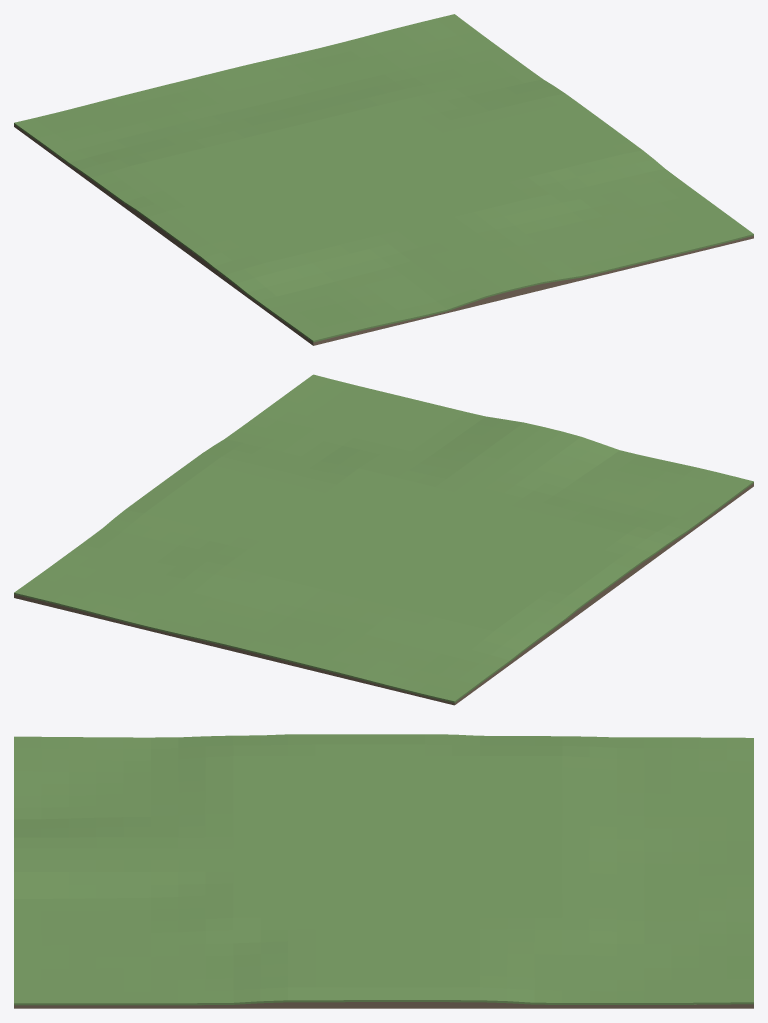
The model's file is yard_ground.glb.
The picture shows the model from 3 angles, top to bottom: view 1: azimuth 30°, elevation 25°; view 2: azimuth 150°, elevation 25°; view 3: azimuth 270°, elevation 25°; orthographic projection. The views are drawn at different scales.
Parts seen in each view (by area): view 1: yard_ground.lawn, yard_ground.soil; view 2: yard_ground.lawn, yard_ground.soil; view 3: yard_ground.lawn, yard_ground.soil.
Boxes of the visible parts, x1=… form: yard_ground.lawn: x1=14, y1=14, x2=753, y2=342; yard_ground.soil: x1=14, y1=124, x2=753, y2=345; yard_ground.lawn: x1=14, y1=374, x2=753, y2=702; yard_ground.soil: x1=14, y1=483, x2=753, y2=705; yard_ground.lawn: x1=14, y1=734, x2=753, y2=1005; yard_ground.soil: x1=14, y1=1002, x2=753, y2=1008.
Bounding box in the file's own units: 34 × 0.5996 × 40.
